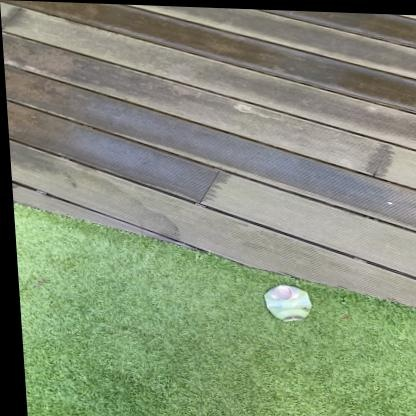trash: (264, 285, 311, 320)
